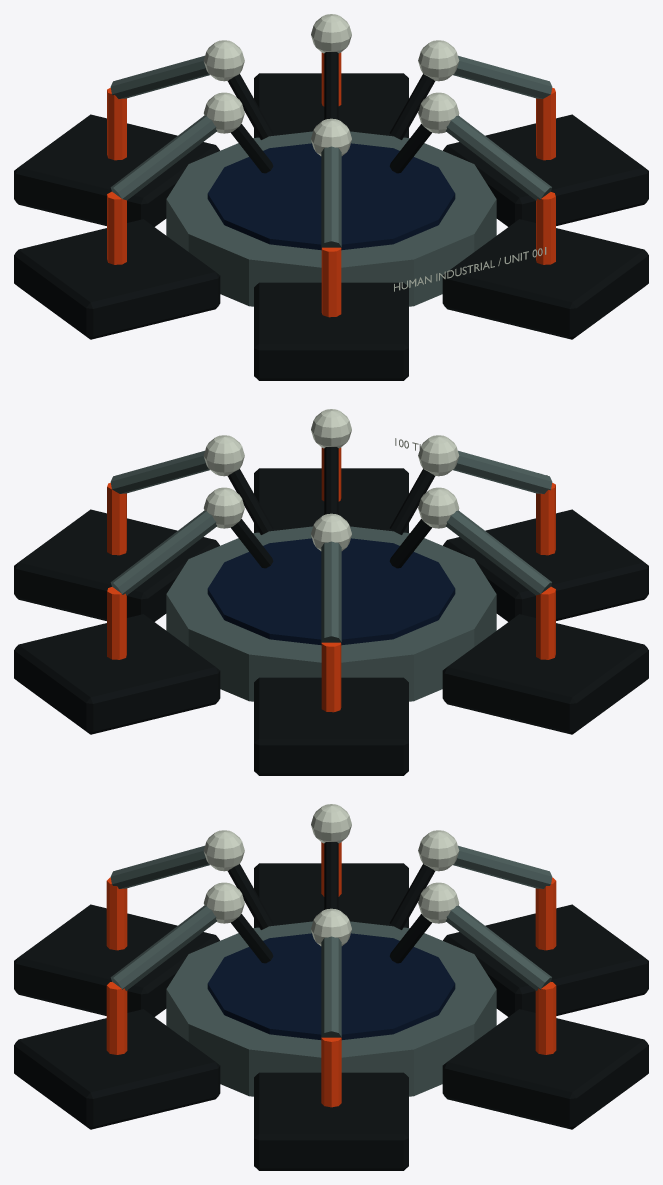
File: SM_MP_Robot_Nest.fbx
The picture shows the model from 3 angles, top to bottom: view 1: azimuth 30°, elevation 25°; view 2: azimuth 150°, elevation 25°; view 3: azimuth 270°, elevation 25°; orthographic projection.
Parts seen in each view (by area): view 1: SM_MP_Robot_Nest; view 2: SM_MP_Robot_Nest; view 3: SM_MP_Robot_Nest.
Part boxes in pixels (left/top/right/bottom): SM_MP_Robot_Nest: left=14, top=14, right=648, bottom=380; SM_MP_Robot_Nest: left=14, top=409, right=648, bottom=775; SM_MP_Robot_Nest: left=14, top=804, right=648, bottom=1170.
Size of the model in its own units: 630 by 616 by 190.
Materials: 1 (1 with a texture image).
